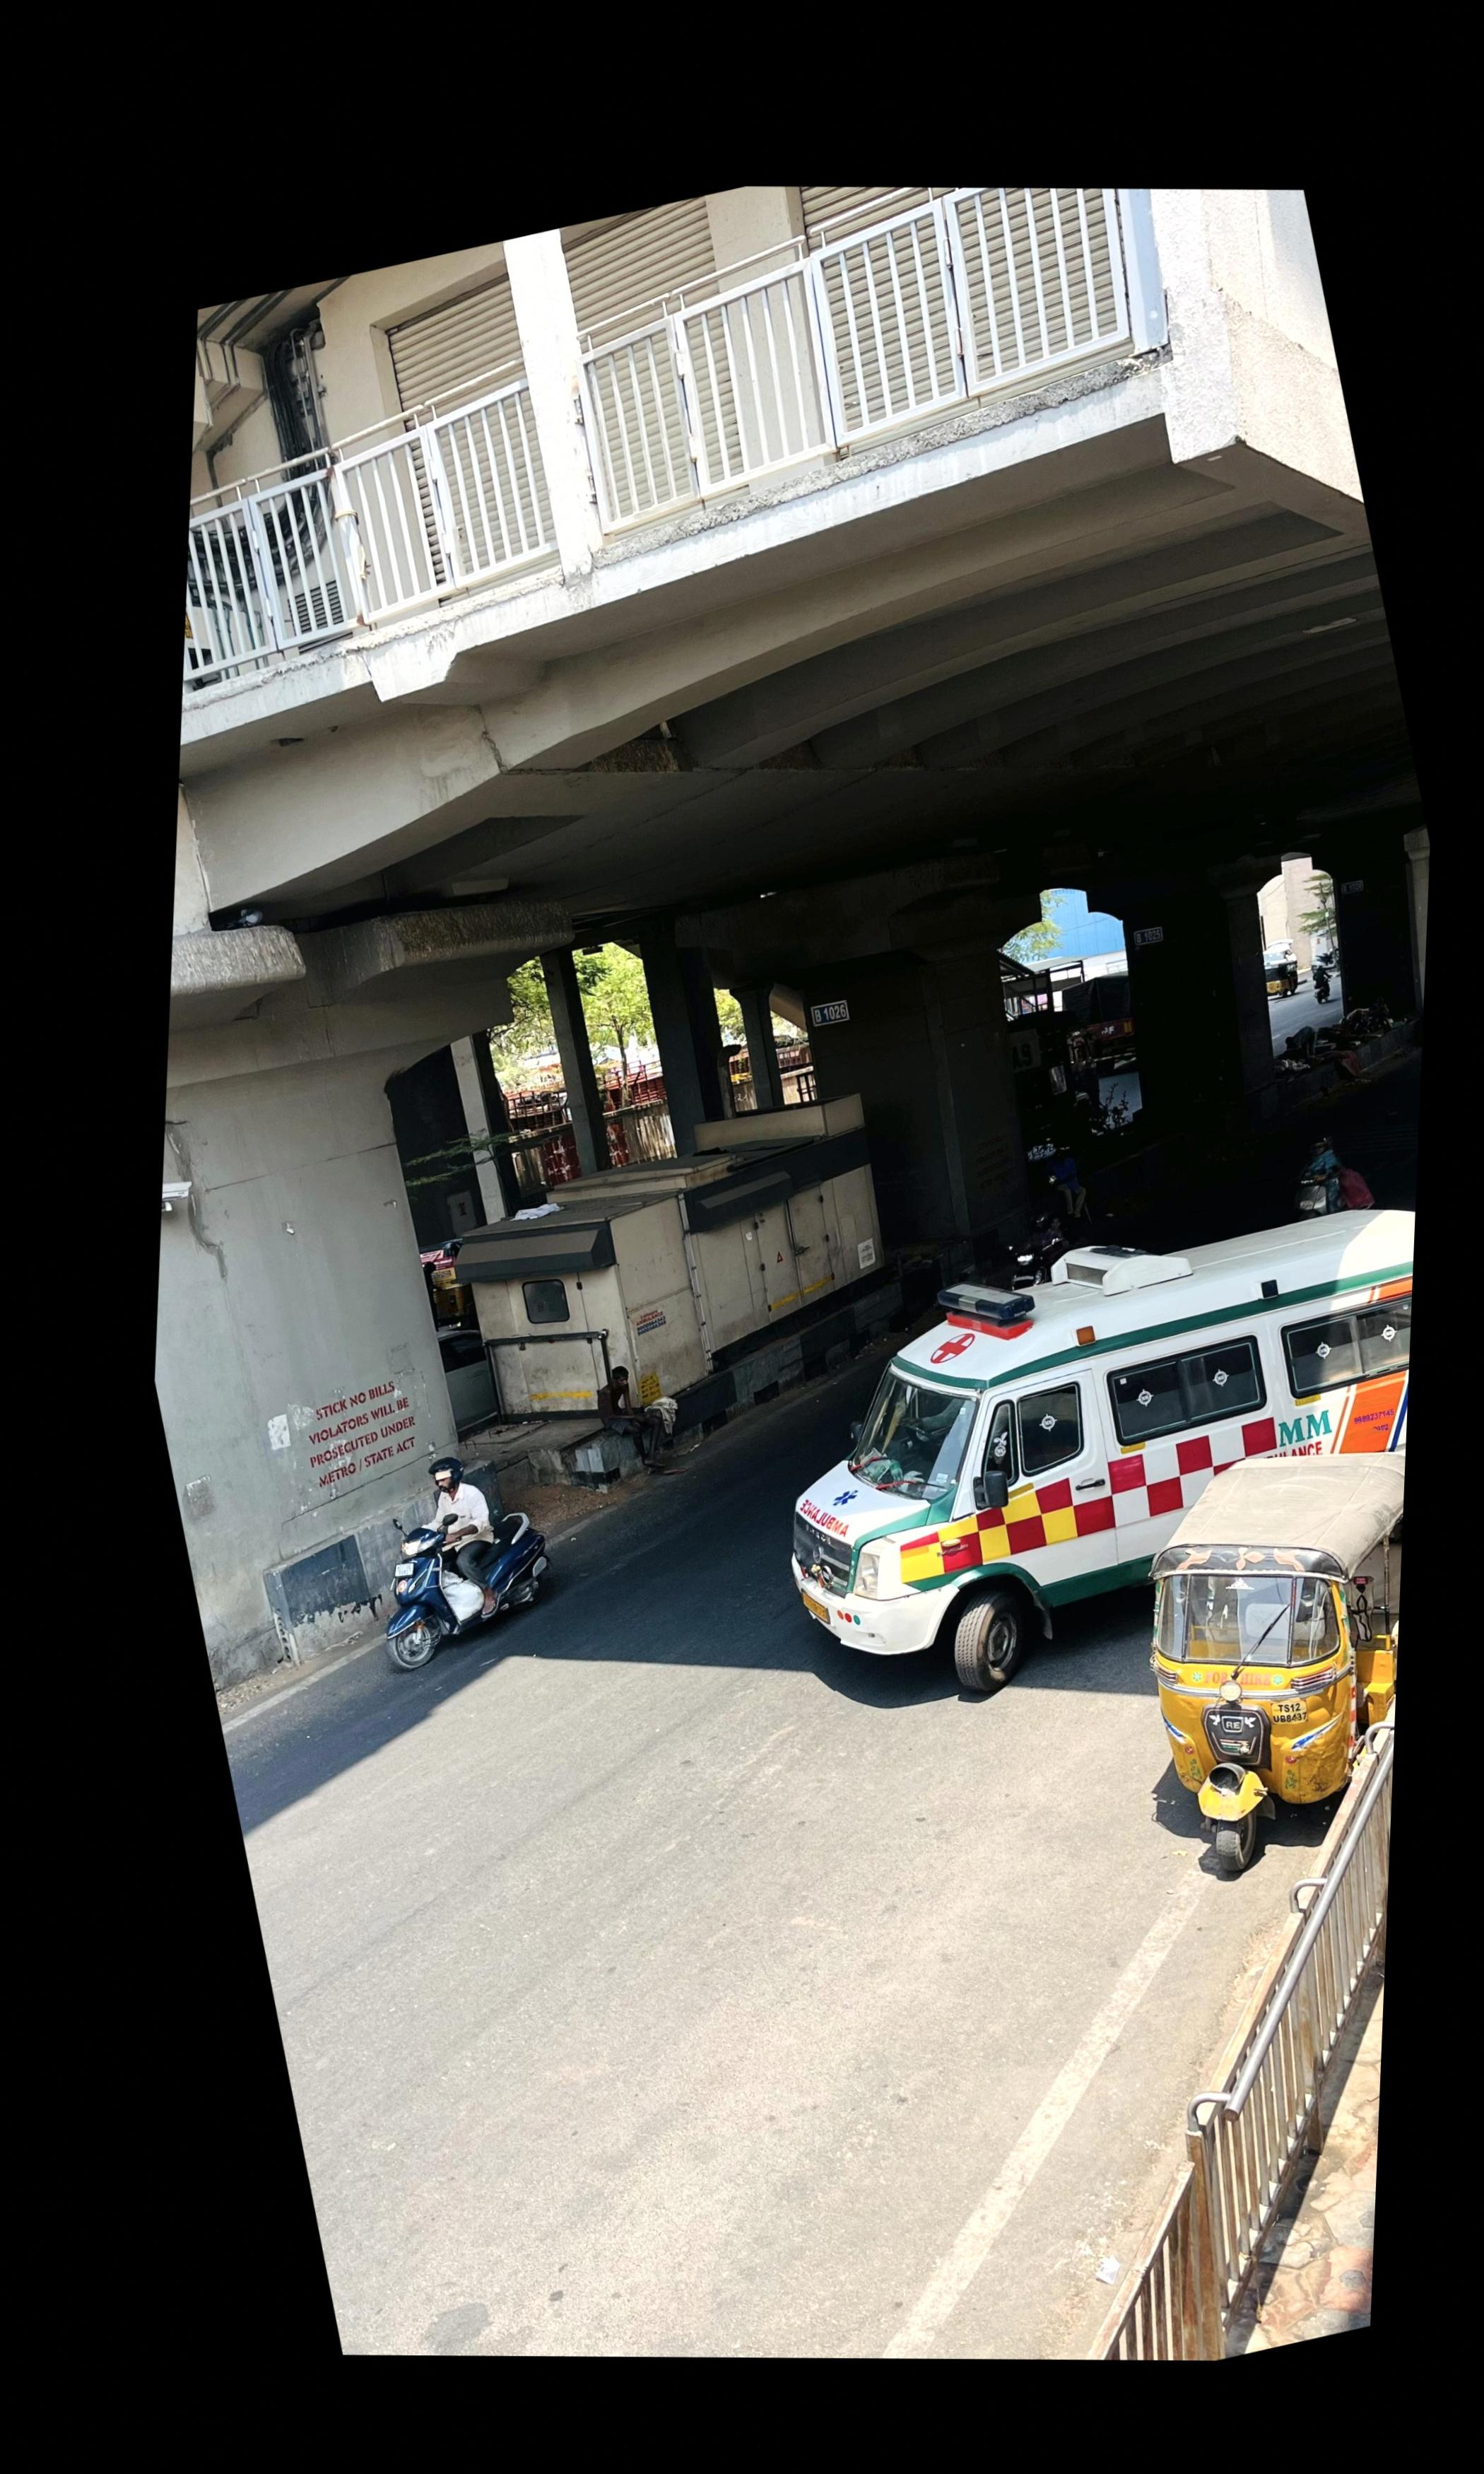ambulance: (786, 1212, 1413, 1700)
